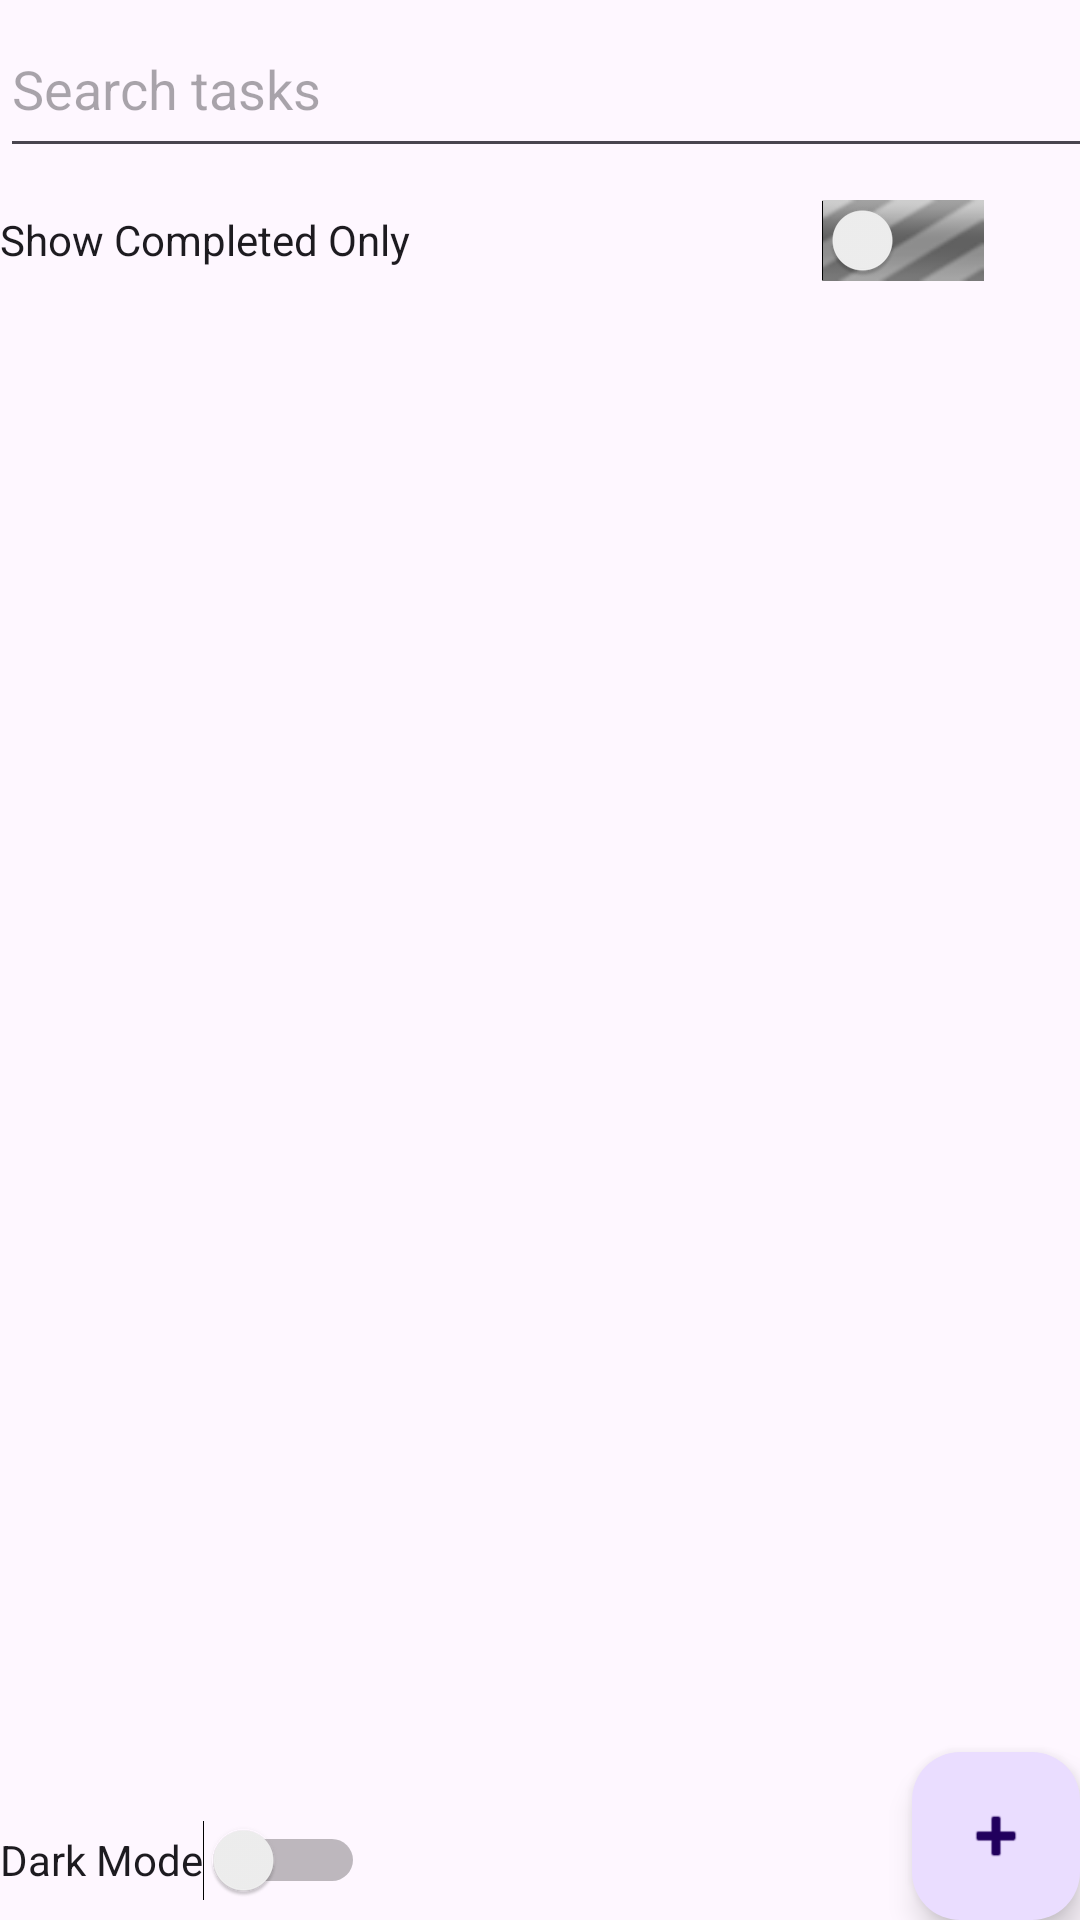

Screen size 1080x1920. Icon name, then its box in pixels as (x1, y1, x2, y2):
Add Task: (912, 1752, 1080, 1920)
